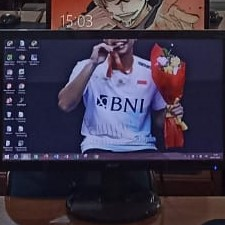monitor: (0, 28, 224, 198)
